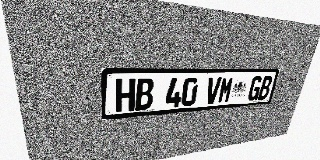0: (181, 77, 199, 107)
4: (165, 78, 184, 108)
B: (135, 78, 154, 111), (257, 76, 273, 100)
G: (247, 76, 263, 101)
H: (116, 78, 135, 112)
M: (217, 77, 234, 103)
V: (204, 77, 222, 105)
